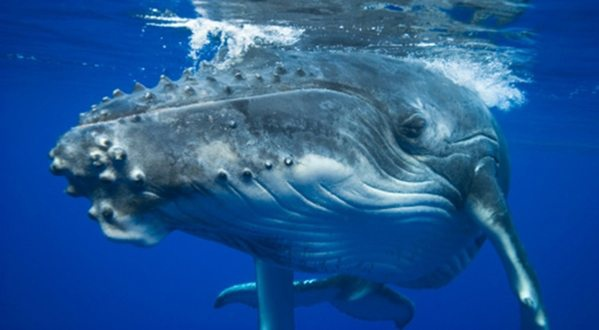humpback: (44, 53, 510, 291)
